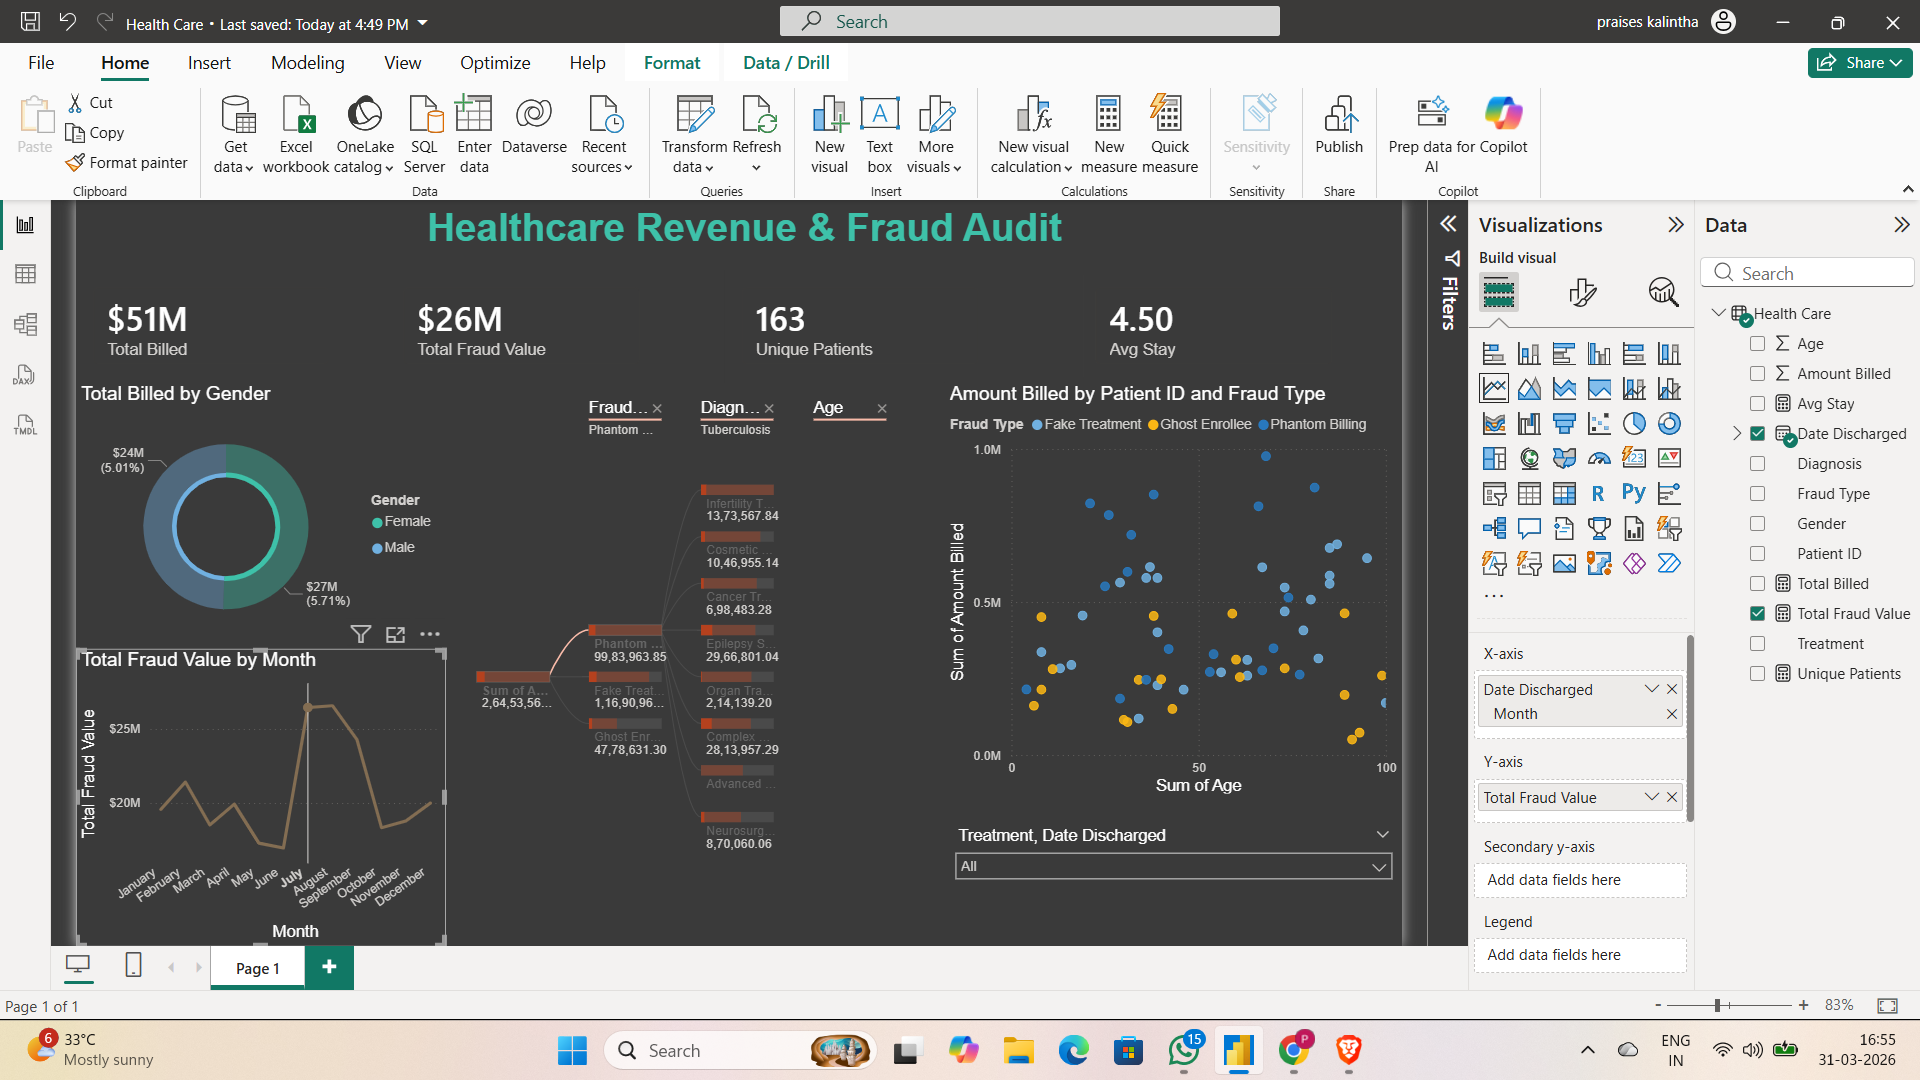

The page's visual inventory and layout, read from the dashboard file:
{"tool":"powerbi","page":{"name":"Page 1","canvas":[1280,720],"ordinal":0},"visuals":[{"type":"textbox","box":[9.6,0,1270.7,76.8],"z":0},{"type":"cardVisual","fields":{"Data":["Health Care.Total Billed"]},"box":[0,67.6,261.8,108.6],"z":1000},{"type":"cardVisual","fields":{"Data":["Health Care.Total Fraud Value"]},"box":[299.1,67.2,262.1,108.4],"z":2000},{"type":"cardVisual","fields":{"Data":["Health Care.Unique Patients"]},"box":[625.7,67.2,262.1,108.4],"z":3000},{"type":"cardVisual","fields":{"Data":["Health Care.Avg Stay (Days)"]},"box":[967.4,67.2,262.1,108.4],"z":4000},{"type":"donutChart","fields":{"Category":["Health Care.Gender"],"Y":["Health Care.Total Billed"]},"box":[0,175.6,356.8,258],"z":5000},{"type":"lineChart","fields":{"Category":["Health Care.Date Discharged.Variation.Date Hierarchy.Month"],"Y":["Health Care.Total Fraud Value"]},"box":[0,433.6,356.8,286.8],"z":6000},{"type":"scatterChart","title":"Amount Billed by Patient ID and Fraud Type","fields":{"X":["Sum(Health Care.Age)"],"Series":["Health Care.Fraud Type"],"Y":["Sum(Health Care.Amount Billed)"],"Category":["Health Care.Patient ID"]},"box":[838.4,175.6,441.9,402.1],"z":8000},{"type":"slicer","fields":{"Values":["Health Care.Treatment","Health Care.Date Discharged"]},"box":[838.4,599.7,441.9,120.8],"z":9000},{"type":"decompositionTreeVisual","fields":{"ExplainBy":["Health Care.Fraud Type","Health Care.Diagnosis","Health Care.Age","Health Care.Gender"],"Analyze":["Sum(Health Care.Amount Billed)"]},"box":[356.8,175.6,481.6,544.8],"z":9001}]}

Visuals, with their boxes on the page's 1280x720 design canvas (x1, y1, x2, y2). These are canvas units, not pixel positions in the 1920x1080 screenshot, which may show the page scaled, cropped or inside an application window:
textbox: x1=10, y1=0, x2=1280, y2=77
cardVisual - Health Care.Total Billed: x1=0, y1=68, x2=262, y2=176
cardVisual - Health Care.Total Fraud Value: x1=299, y1=67, x2=561, y2=176
cardVisual - Health Care.Unique Patients: x1=626, y1=67, x2=888, y2=176
cardVisual - Health Care.Avg Stay (Days): x1=967, y1=67, x2=1230, y2=176
donutChart - Health Care.Gender x Health Care.Total Billed: x1=0, y1=176, x2=357, y2=434
lineChart - Health Care.Date Discharged.Variation.Date Hierarchy.Month x Health Care.Total Fraud Value: x1=0, y1=434, x2=357, y2=720
"Amount Billed by Patient ID and Fraud Type" scatterChart: x1=838, y1=176, x2=1280, y2=578
slicer - Health Care.Treatment x Health Care.Date Discharged: x1=838, y1=600, x2=1280, y2=720
decompositionTreeVisual - Health Care.Fraud Type x Health Care.Diagnosis: x1=357, y1=176, x2=838, y2=720
